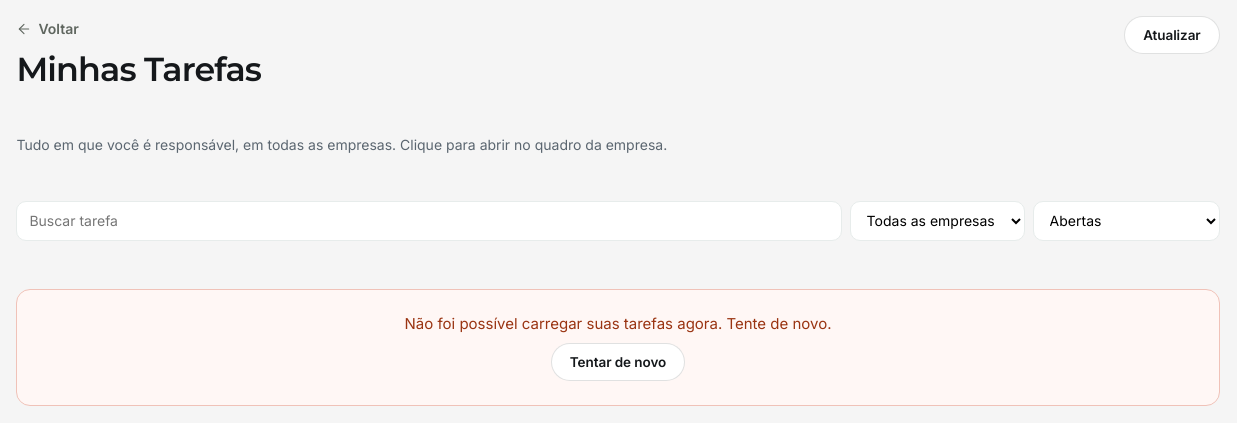
Minhas Tarefas (spec do Danilo, PR 2) › erro de leitura não vira lista vazia
Check: the message "Não foi possível carregar suas tarefas agora. Tente de novo. Tentar de novo" is shown, box left=16, top=289, right=1220, bottom=406
Check: the text "não tem tarefas" is not shown
Click the button "Tentar de novo".
click(618, 362)  # box left=551, top=343, right=685, bottom=381
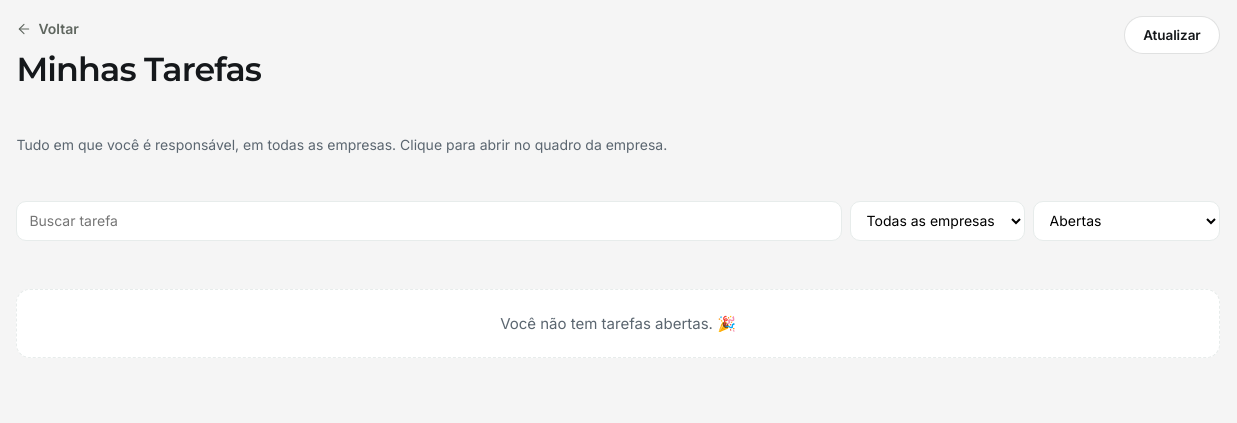
Check: the text "Você não tem tarefas abertas" is shown, box left=500, top=314, right=736, bottom=333
